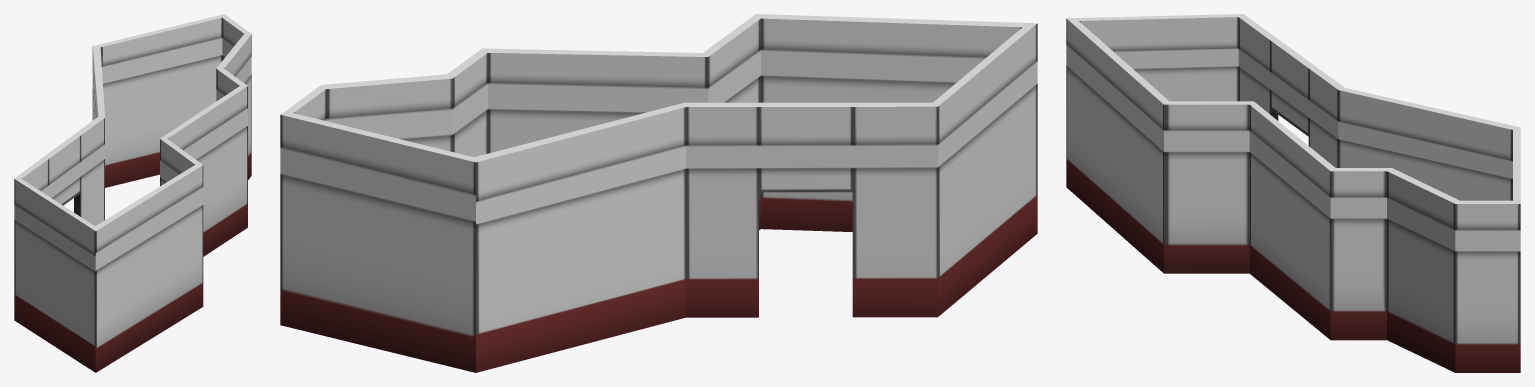
File: MainFirstFloorTolietWomen0.FBX
3 renders of one model, left to right at view 1: azimuth 30°, elevation 25°; view 2: azimuth 150°, elevation 25°; view 3: azimuth 270°, elevation 25°, orthographic. The views are drawn at different scales.
Parts seen in each view (by area): view 1: Box134; view 2: Box134; view 3: Box134.
Boxes of the visible parts, <box> form: Box134: <box>14,14,251,372</box>; Box134: <box>280,14,1037,372</box>; Box134: <box>1066,14,1520,372</box>.
Size of the model in its own units: 167 by 69.26 by 169.
Materials: 1 (1 with a texture image).
